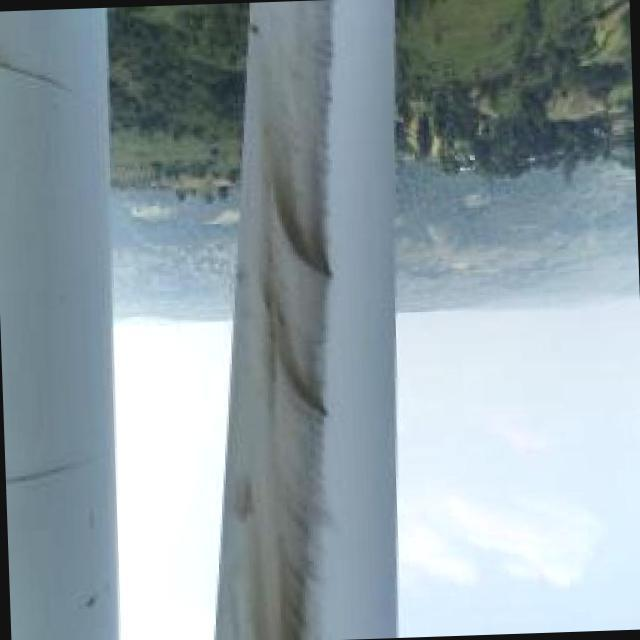Dirt: (214, 2, 335, 640)
Oil LEAKAGE: (270, 132, 335, 278), (262, 293, 328, 419)
Pin Hole: (247, 16, 261, 38), (315, 403, 331, 421), (320, 264, 333, 283)
